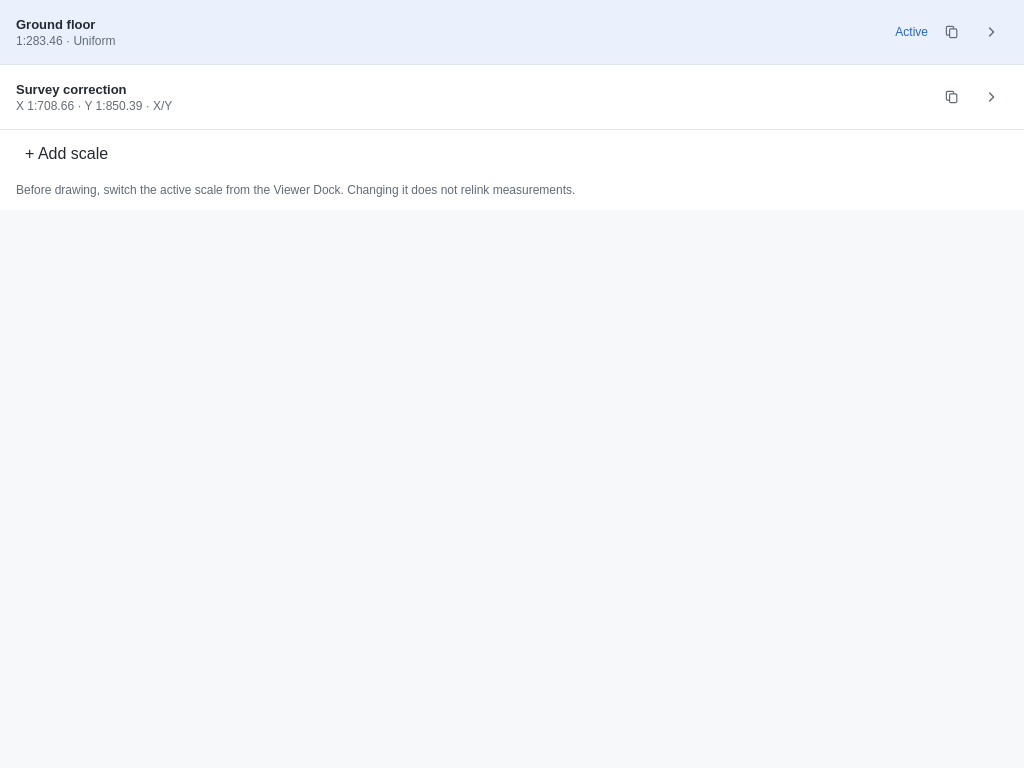
ScalesWorkspace › restores focus to Add scale when Custom ratio closes with Escape
Click the button "+ Add scale": {"x": 67, "y": 154} [16,138,1008,170]
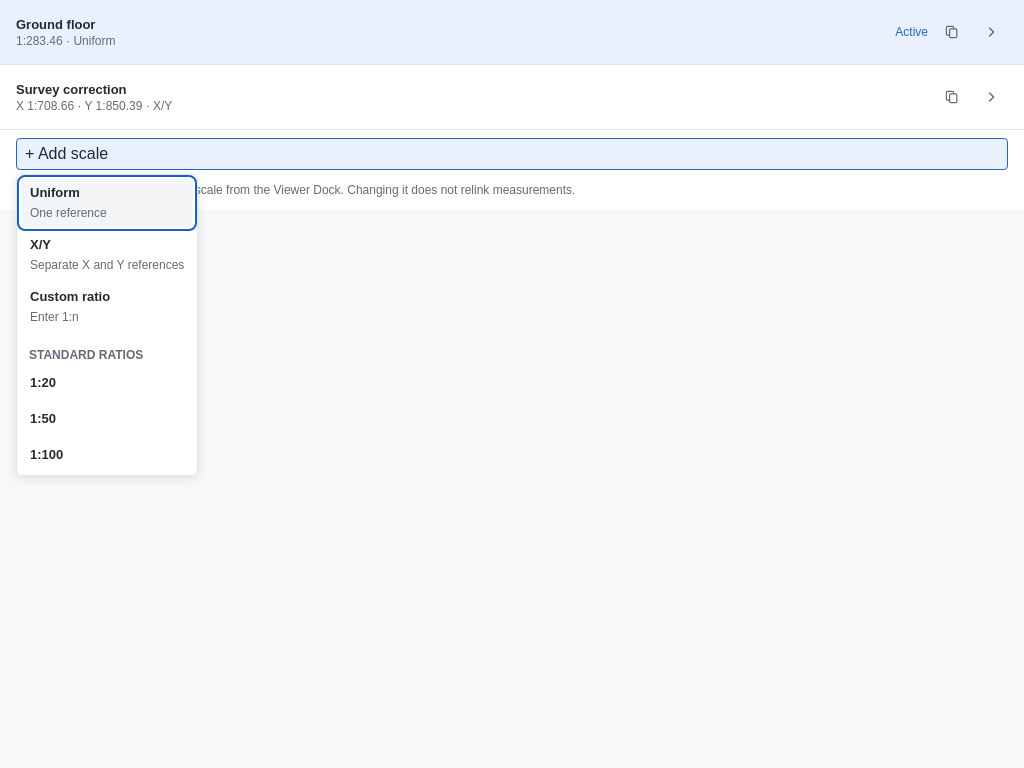
Click the menu item "Custom ratio Enter 1:n": {"x": 107, "y": 307} [21,283,193,331]
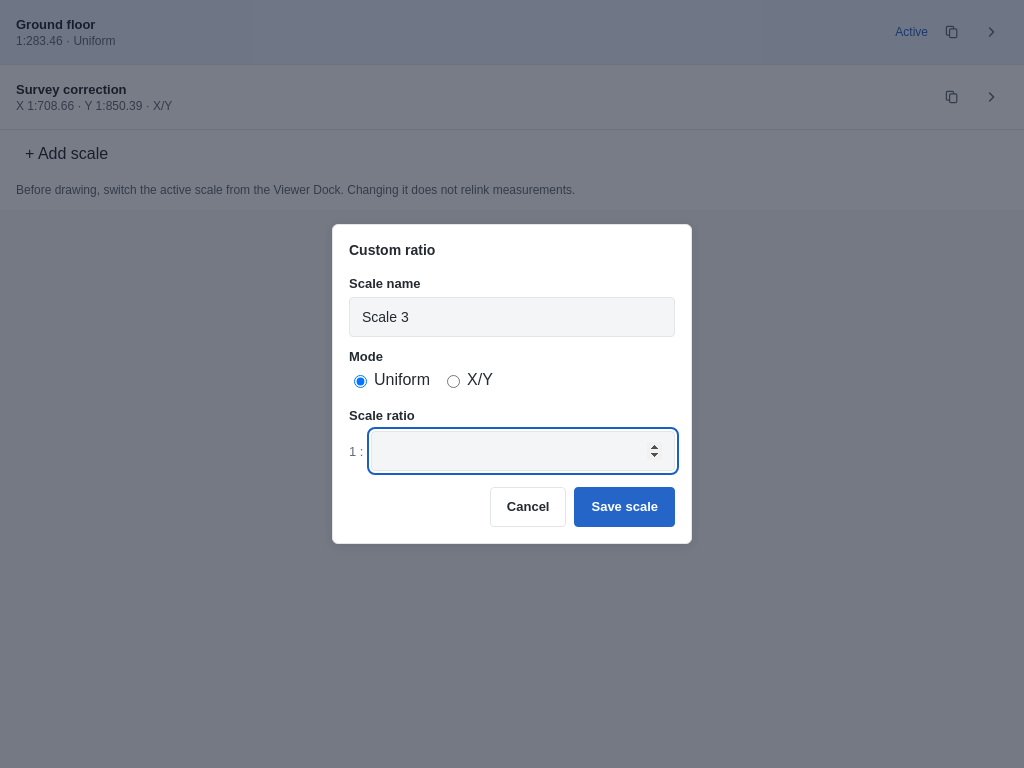
Press Escape in the dialog, box [332,224,692,544]
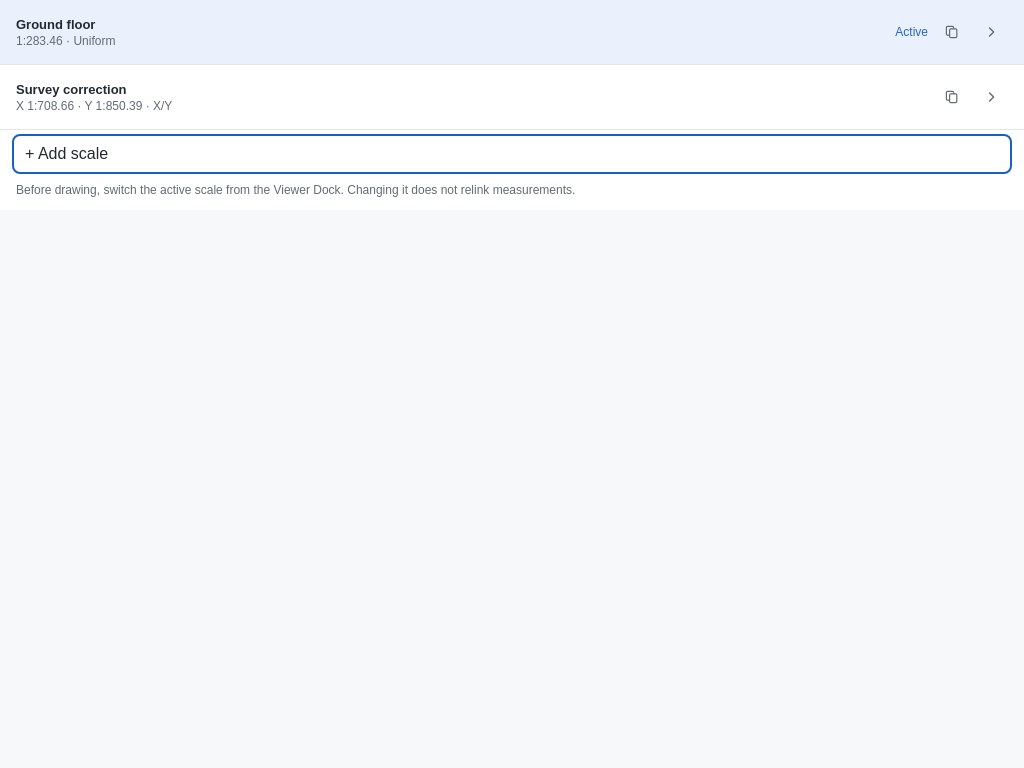
Now the dialog is gone
